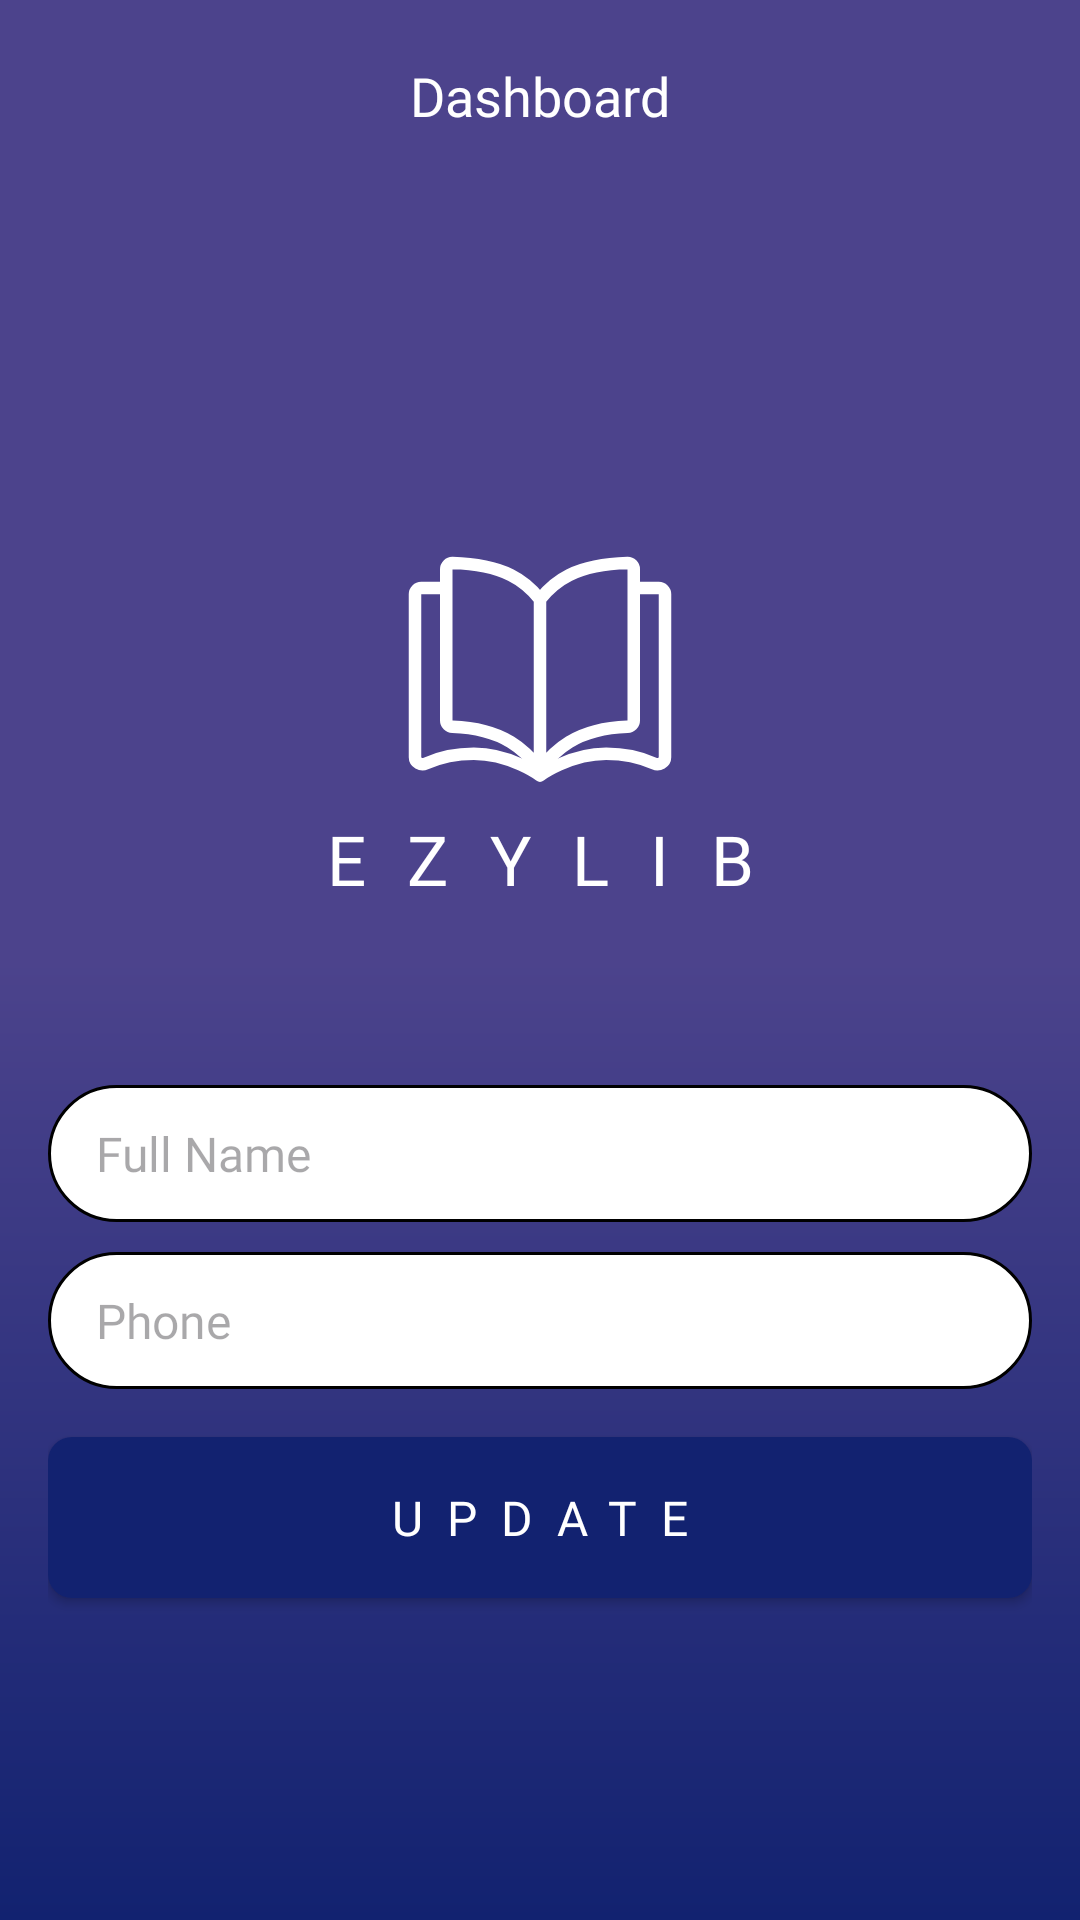

Where icons sit on this 1080 x 1920 app screen, as bbox=[x1, y1, x2, y2]:
book: bbox=[408, 556, 672, 782]
